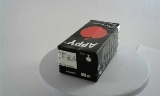appy: (52, 19, 113, 83)
